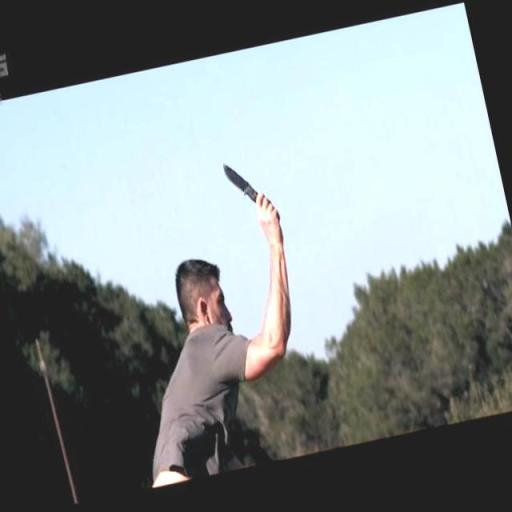knife: (213, 139, 286, 242)
